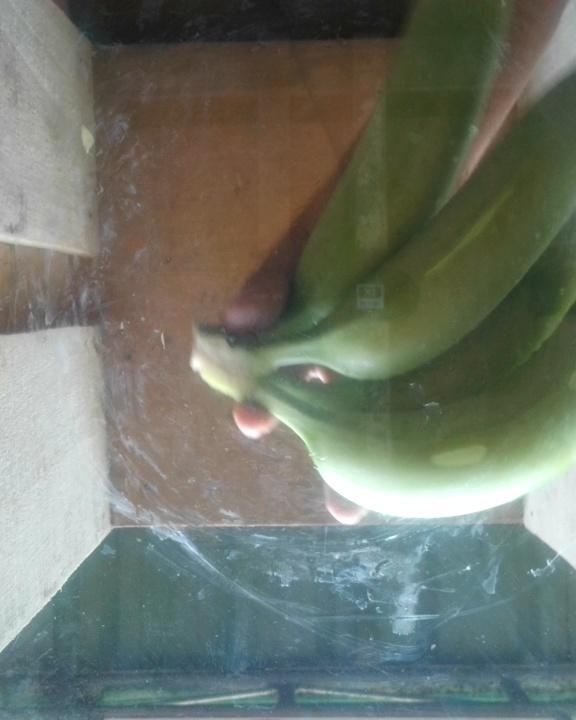SPOT: (210, 3, 576, 536)
